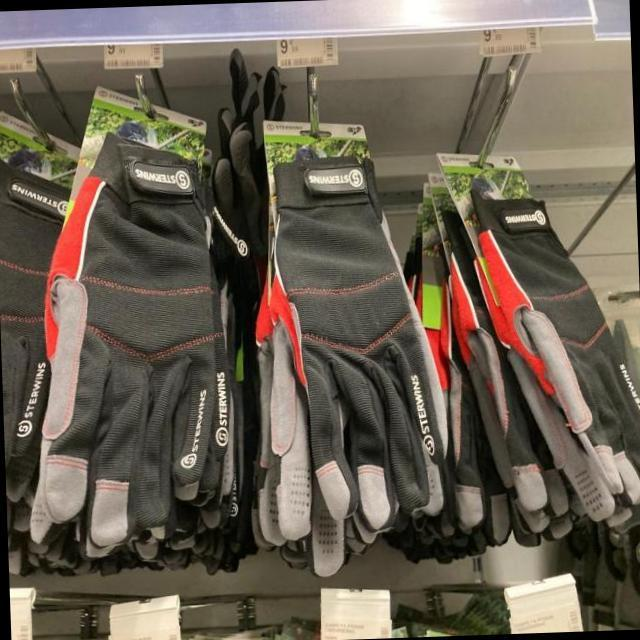Gloves: (418, 186, 635, 560), (44, 133, 233, 543), (253, 156, 433, 568)
